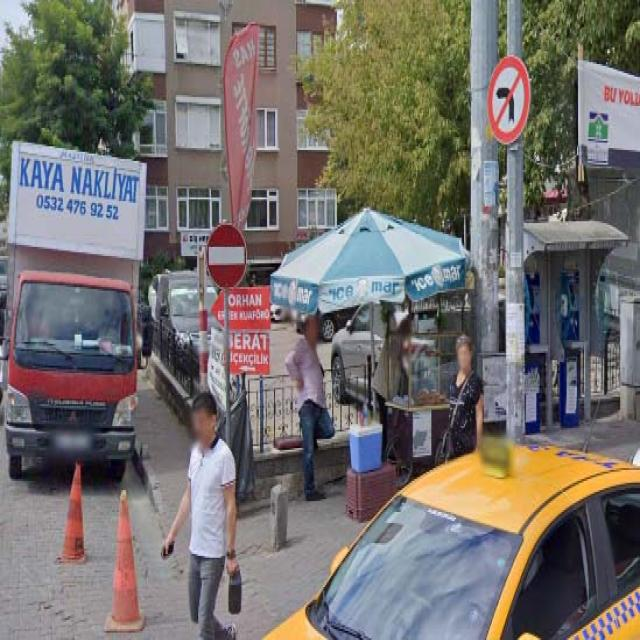girisyok: (206, 223, 244, 291)
soladonulmez: (489, 54, 528, 142)
